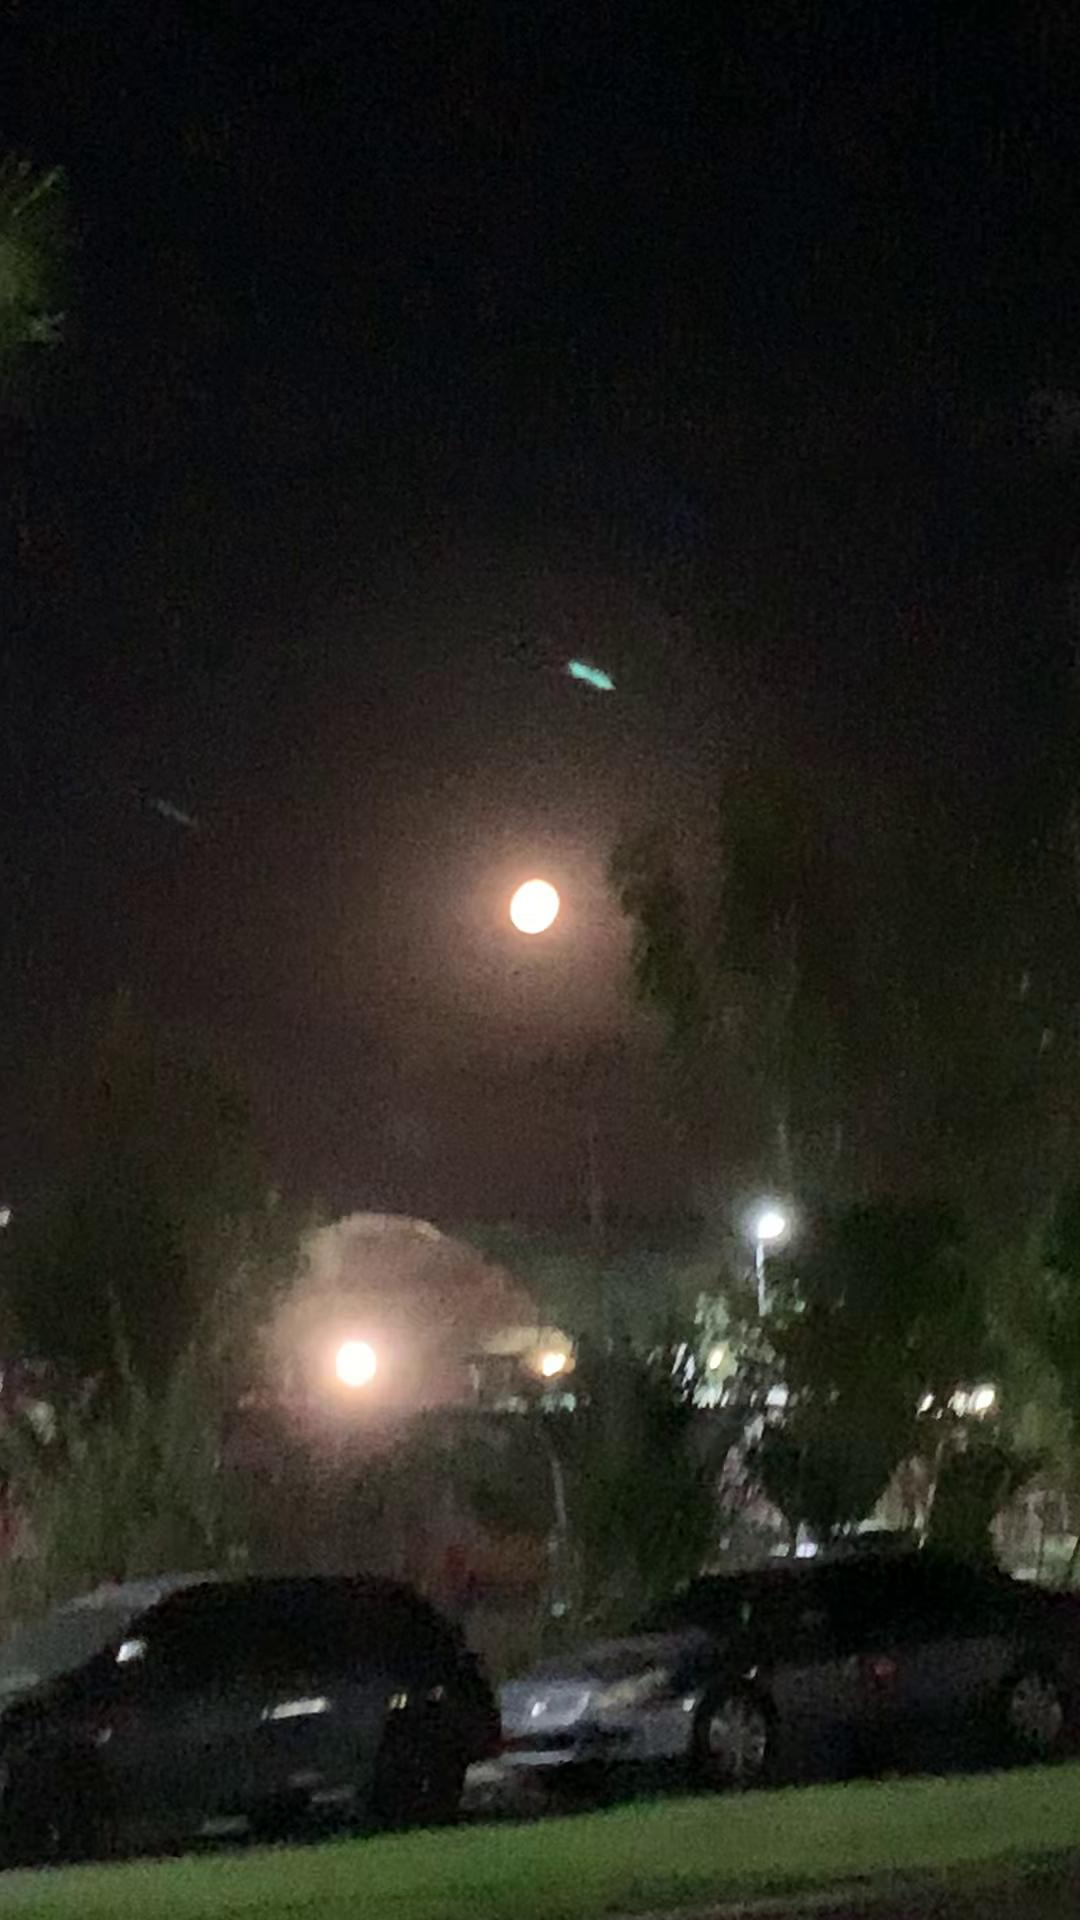moon: (498, 843, 588, 918)
